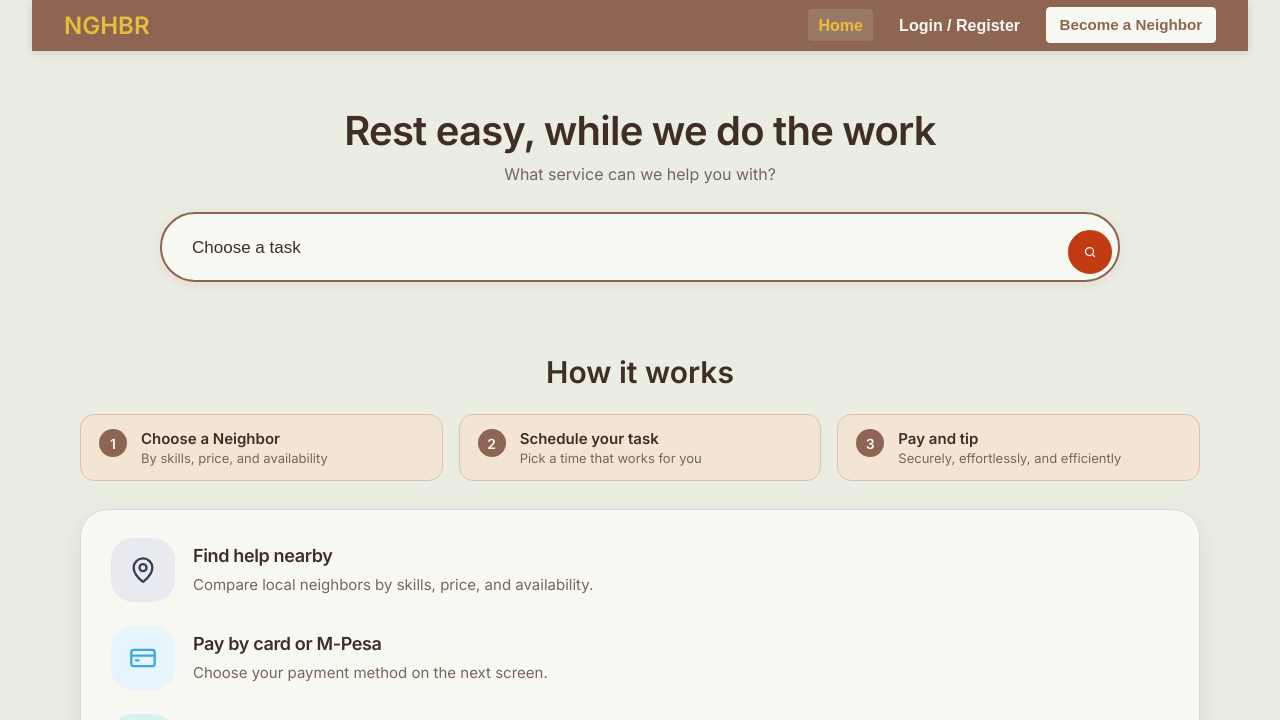
Scenario: shows the Caps Lock warning on the registration password field
The width and height of the screenshot is (1280, 720).
Click the button "Login / Register": click(960, 25) [889,9,1030,41]
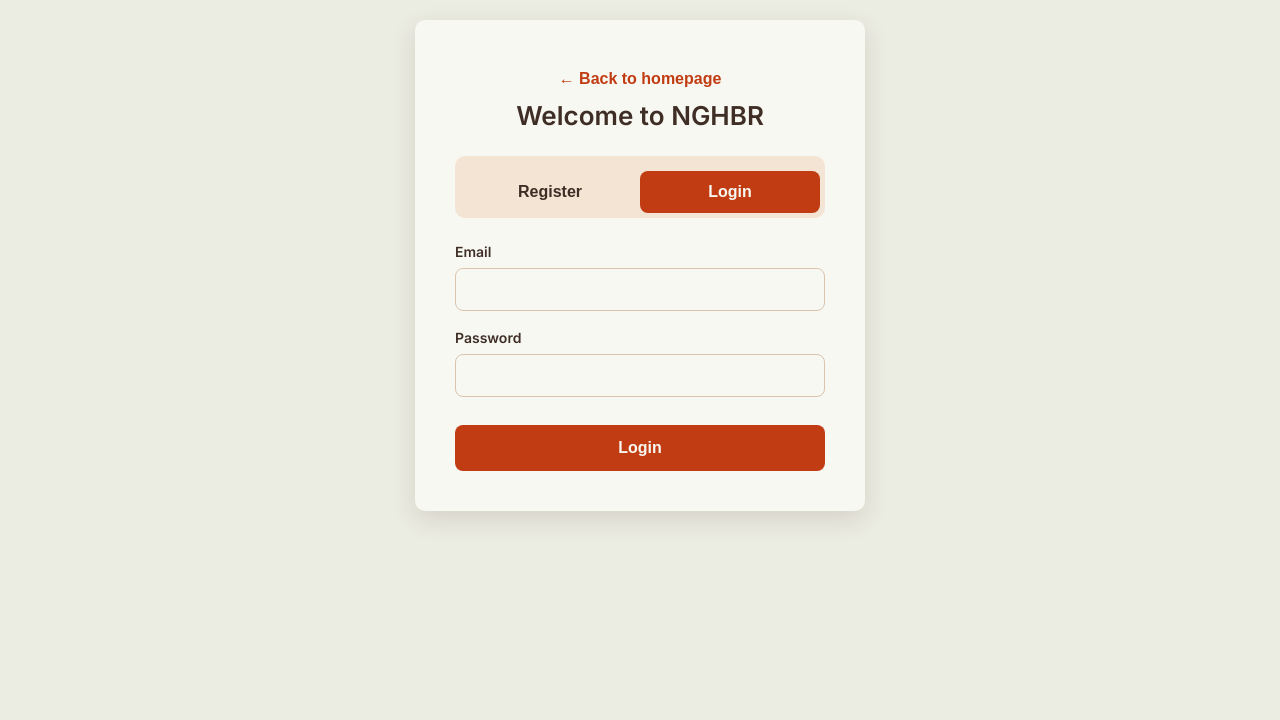
Click the button "Register": click(550, 192) [460,171,640,213]
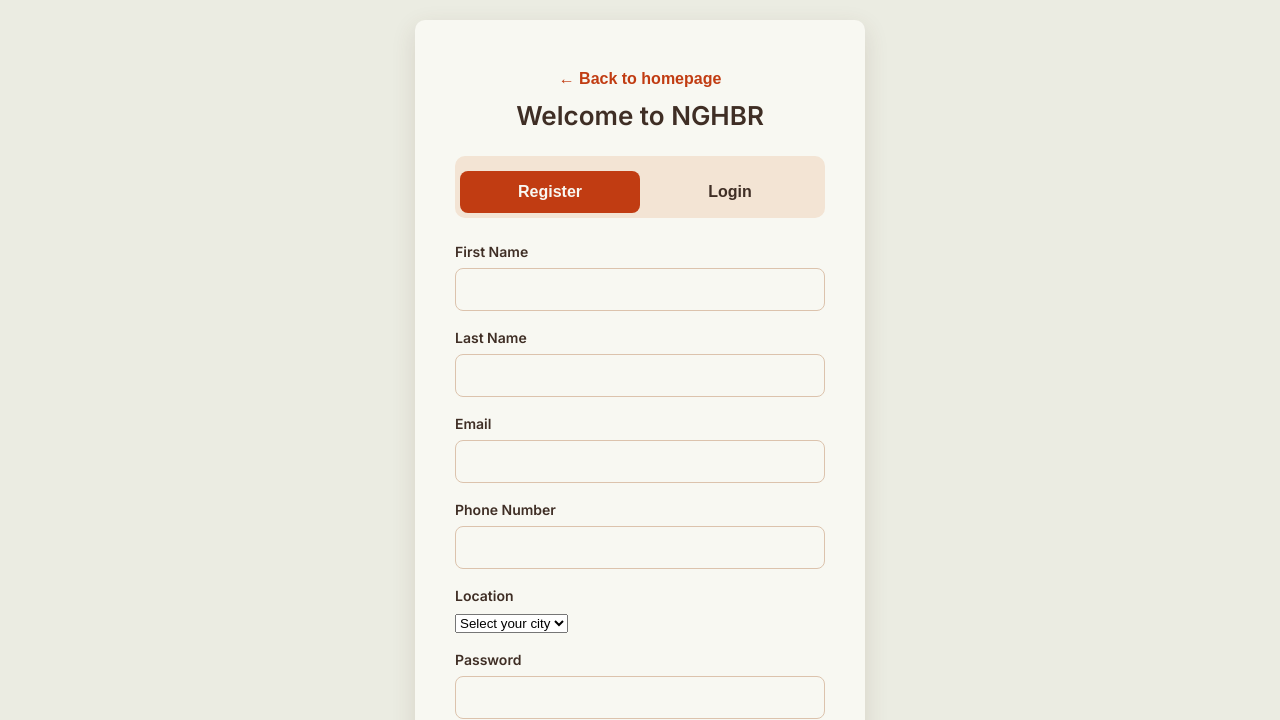
Press A in the password field, box [455,676,825,719]
(page scrolled)
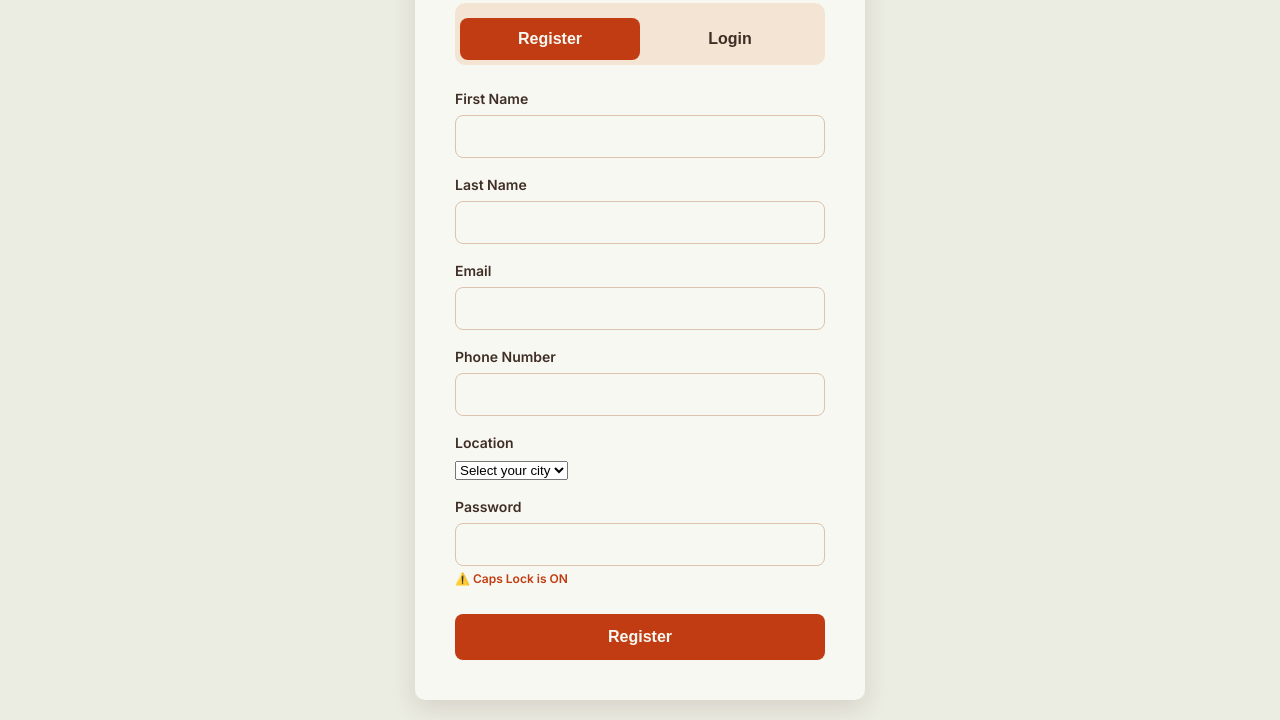
Now the text "⚠️ Caps Lock is ON" is shown, box [455,571,568,586]
